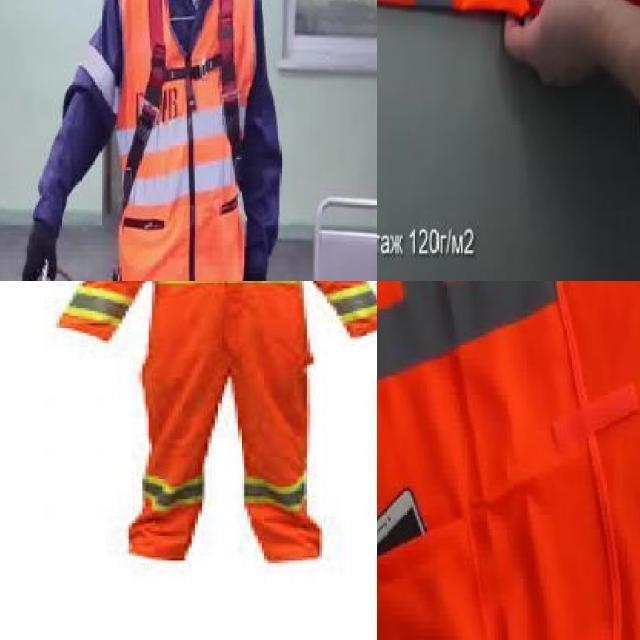apron: (19, 218, 57, 281), (241, 254, 265, 281)
